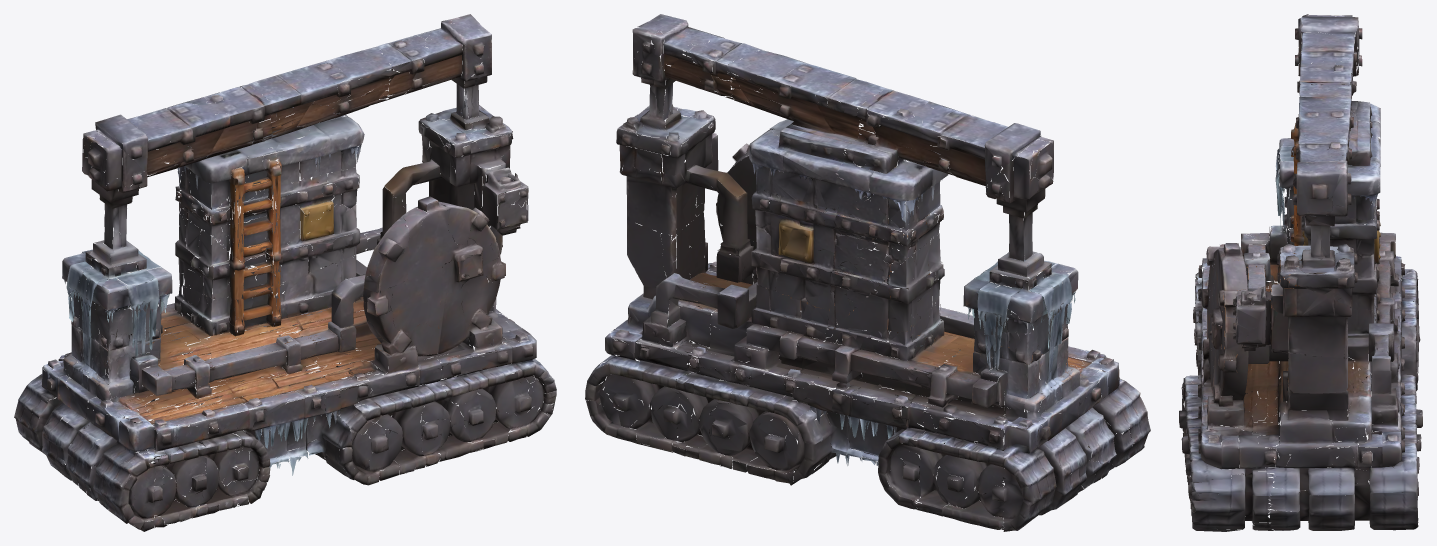
The model's file is greatpump.glb.
The picture shows the model from 3 angles, left to right: view 1: azimuth 30°, elevation 25°; view 2: azimuth 150°, elevation 25°; view 3: azimuth 270°, elevation 25°; orthographic projection. The views are drawn at different scales.
Visible parts, largest first — view 1: tripo_node_fddc8677-ee5e-4664-a0e5-97e3e2b7ef7d; view 2: tripo_node_fddc8677-ee5e-4664-a0e5-97e3e2b7ef7d; view 3: tripo_node_fddc8677-ee5e-4664-a0e5-97e3e2b7ef7d.
Part boxes in pixels (x1,y1,x2,y2): tripo_node_fddc8677-ee5e-4664-a0e5-97e3e2b7ef7d: (14, 14, 556, 531); tripo_node_fddc8677-ee5e-4664-a0e5-97e3e2b7ef7d: (585, 14, 1150, 531); tripo_node_fddc8677-ee5e-4664-a0e5-97e3e2b7ef7d: (1179, 14, 1422, 531).
Bounding box in the file's own units: 0.9809 × 0.7861 × 0.4715.
1 material, 1 textured.
